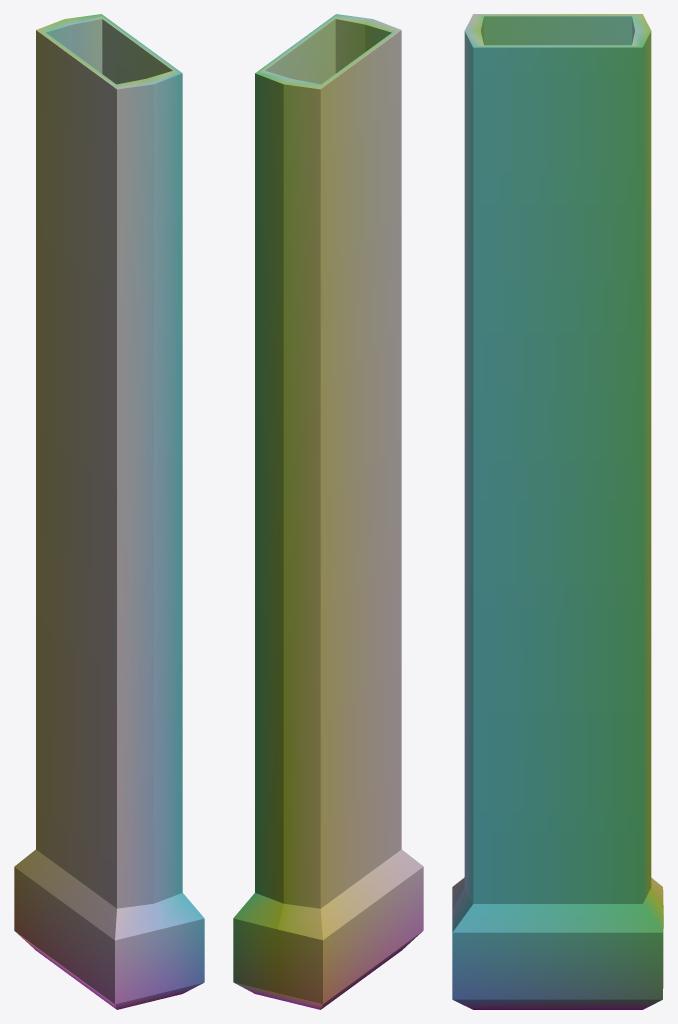
Rendered from Shaft Tape (Attacker).glb.
3 renders of one model, left to right at view 1: azimuth 30°, elevation 25°; view 2: azimuth 150°, elevation 25°; view 3: azimuth 270°, elevation 25°, orthographic. The views are drawn at different scales.
Visible parts, largest first — view 1: Shaft Tape (Attacker); view 2: Shaft Tape (Attacker); view 3: Shaft Tape (Attacker).
Part boxes in pixels (x1,y1,x2,y2): Shaft Tape (Attacker): (14, 14, 204, 1009); Shaft Tape (Attacker): (233, 14, 423, 1009); Shaft Tape (Attacker): (452, 14, 663, 1009).
Size of the model in its own units: 0.0763 by 0.7473 by 0.1486.
